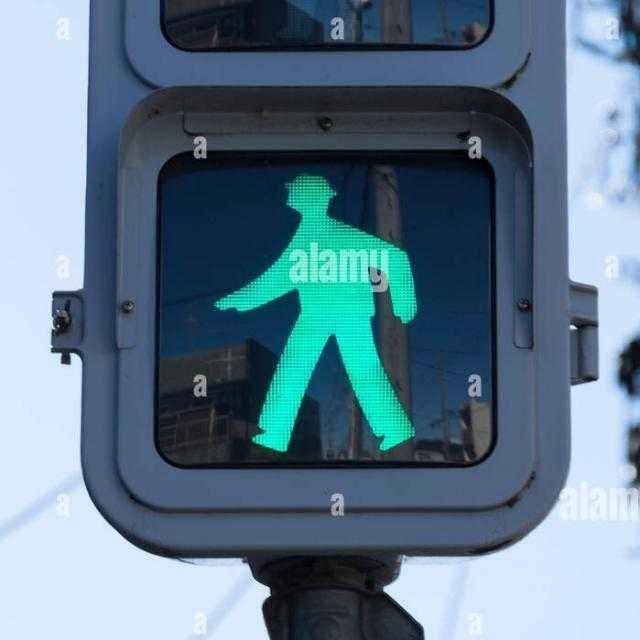geen-crossing: (219, 165, 435, 458)
